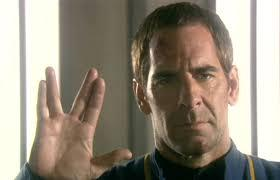Live-Long-Prosper: (36, 65, 131, 180)
